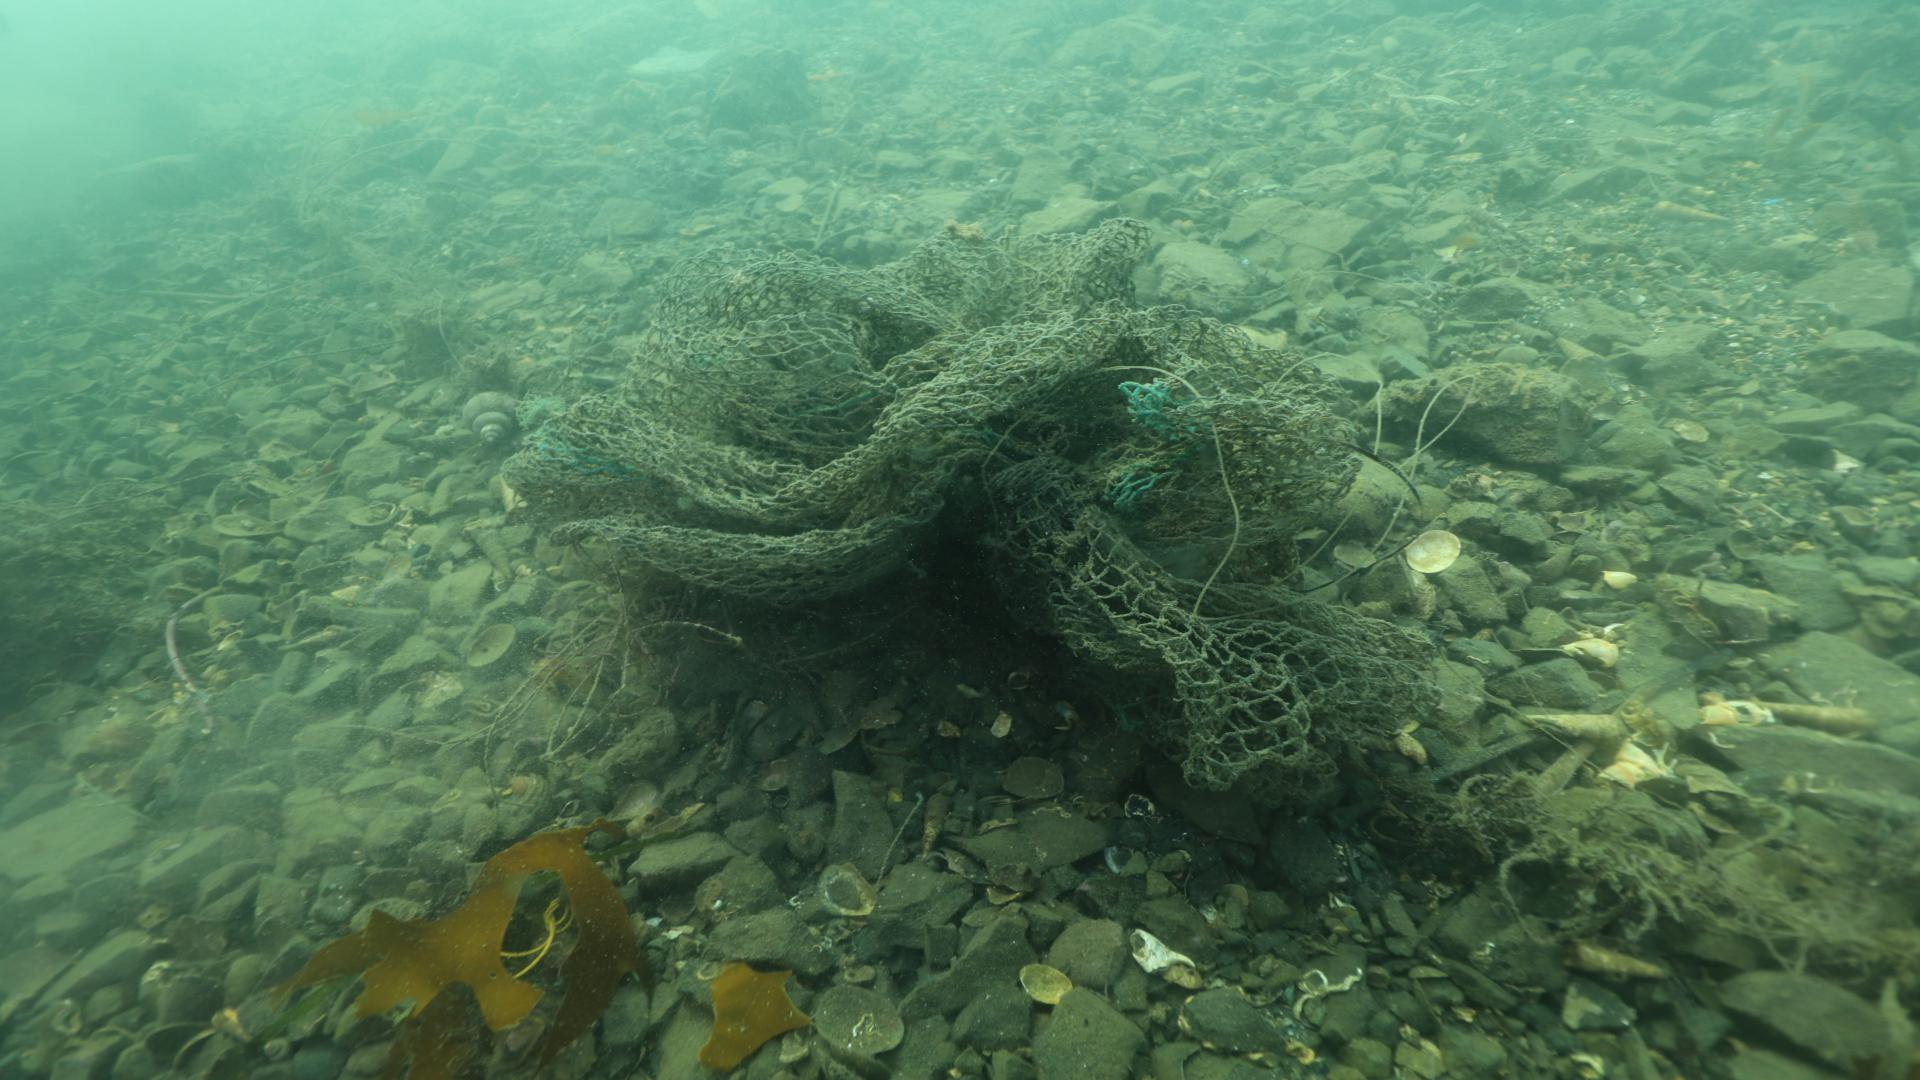fish net: (502, 215, 1444, 790)
